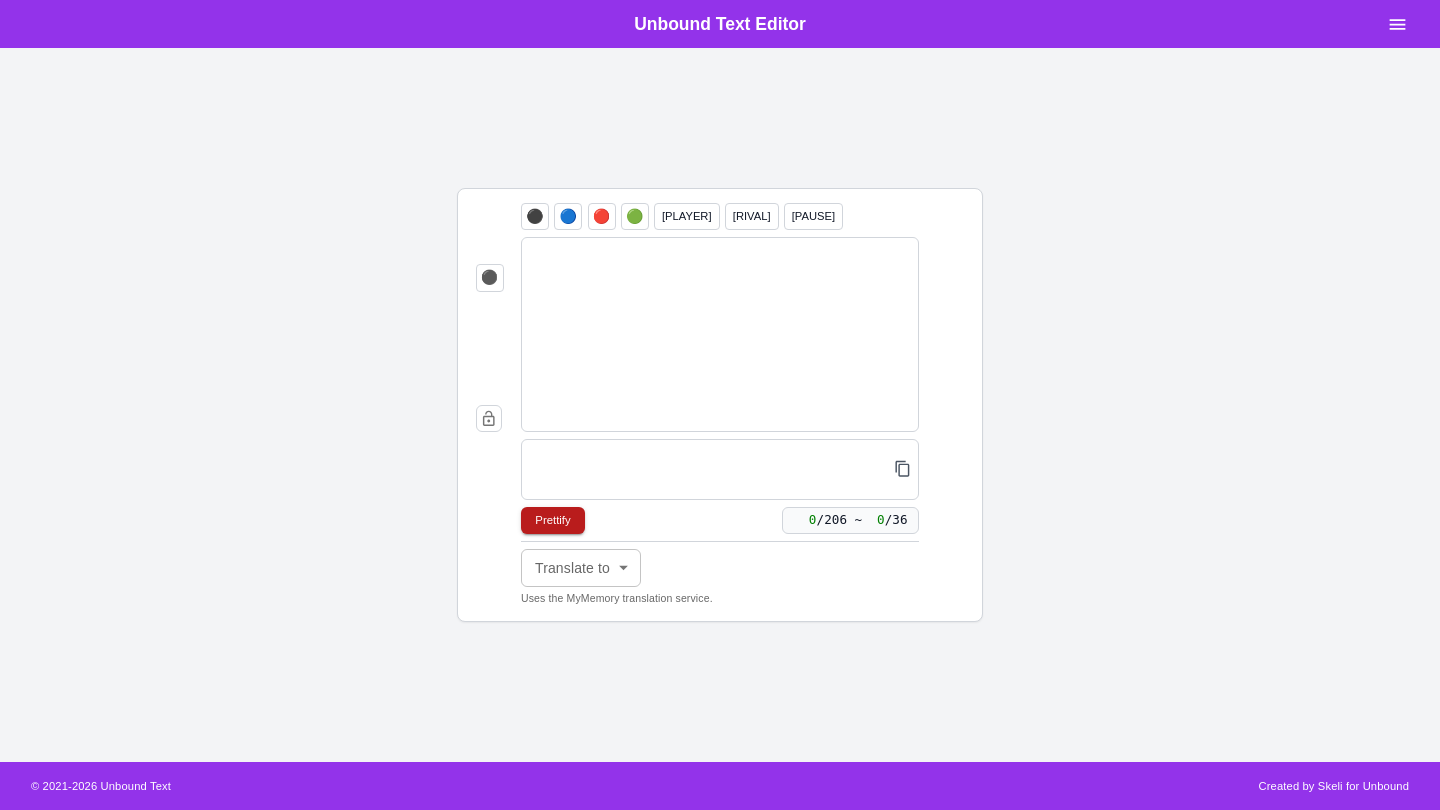
settings placement › Escape closes the settings popover and returns focus to the settings button
The image size is (1440, 810).
Click the button named "Open settings" at (1398, 24), box [1379,6,1416,42]
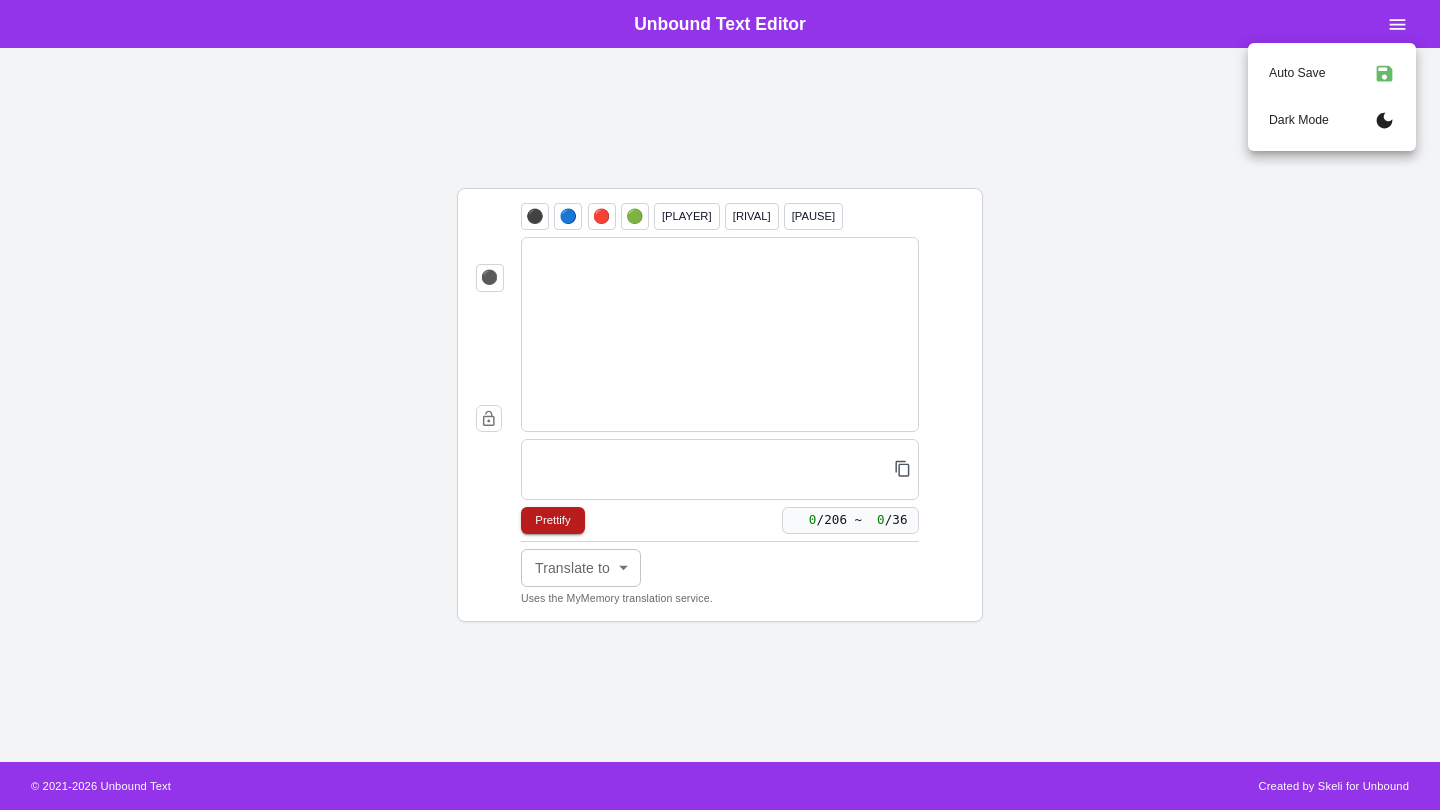
Click the button with aria-label "Toggle Dark Mode" at (1332, 120), box [1258,100,1406,140]
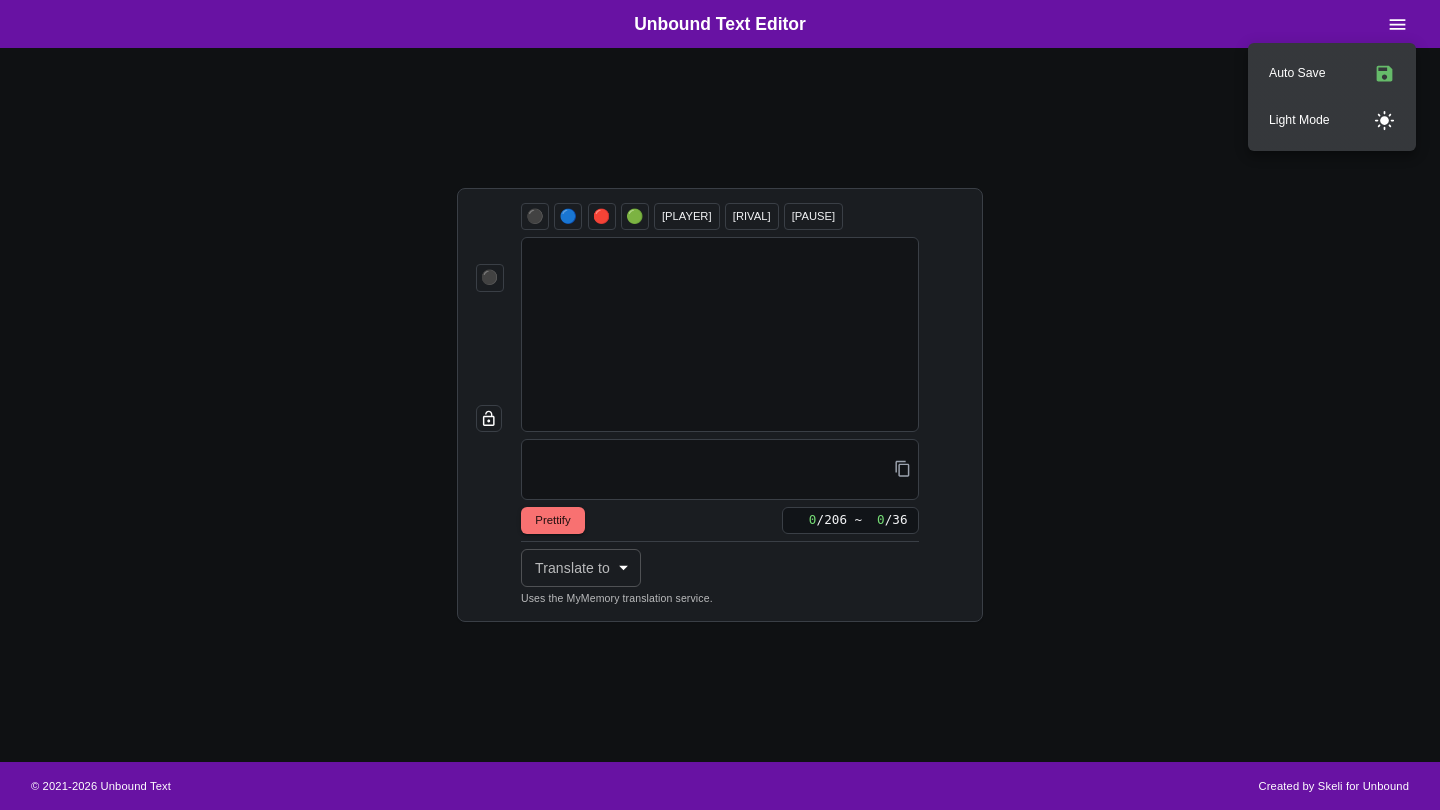
Expected: the element named "Settings" is shown, [1248,43,1416,151]
Press Escape
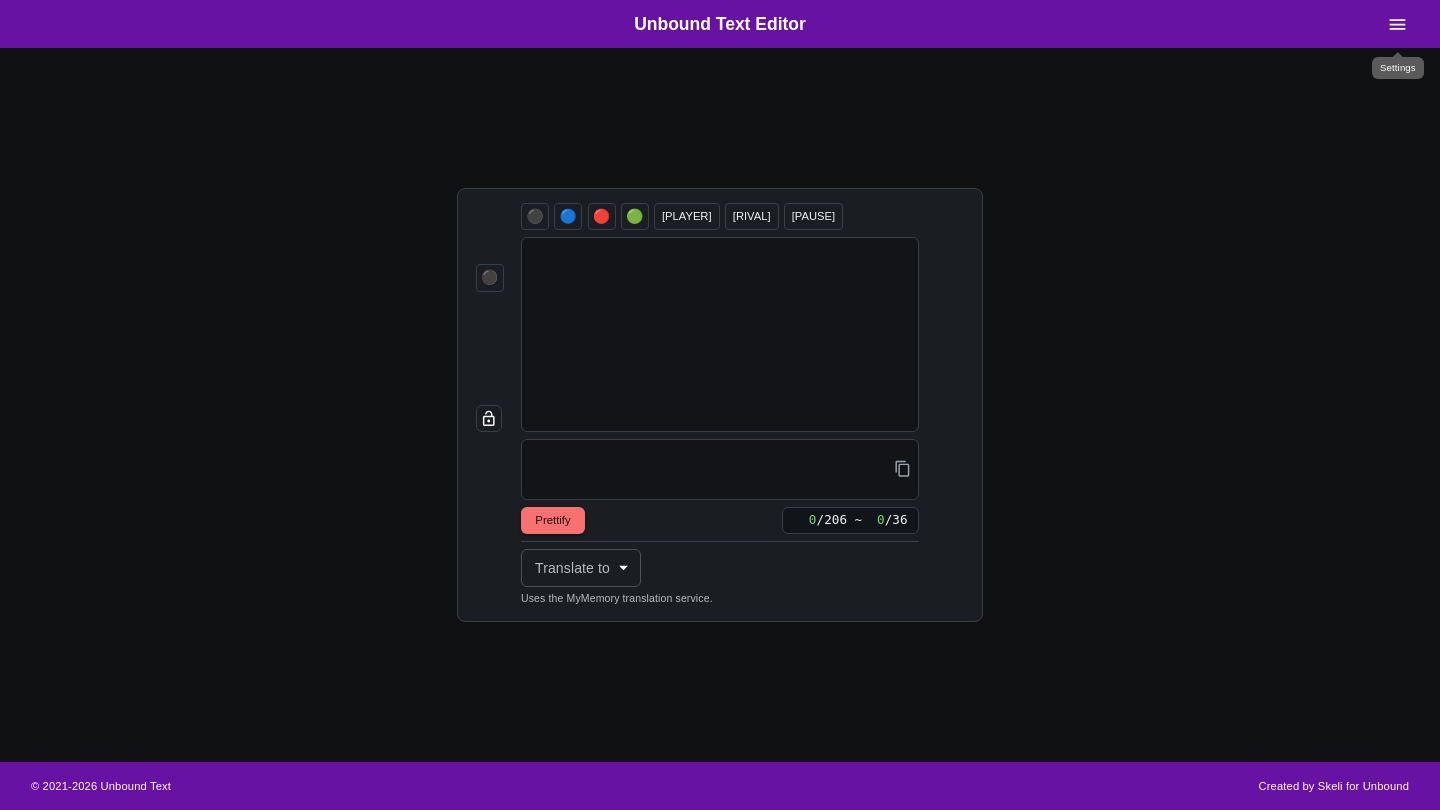
Expected: the button "Open settings" is gone
